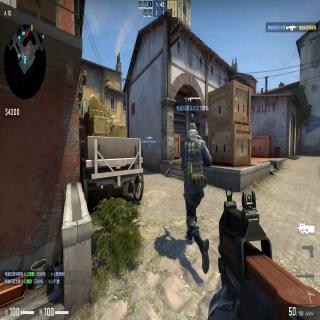CT-Body: (180, 121, 212, 273)
CT-Head: (187, 123, 198, 137)
